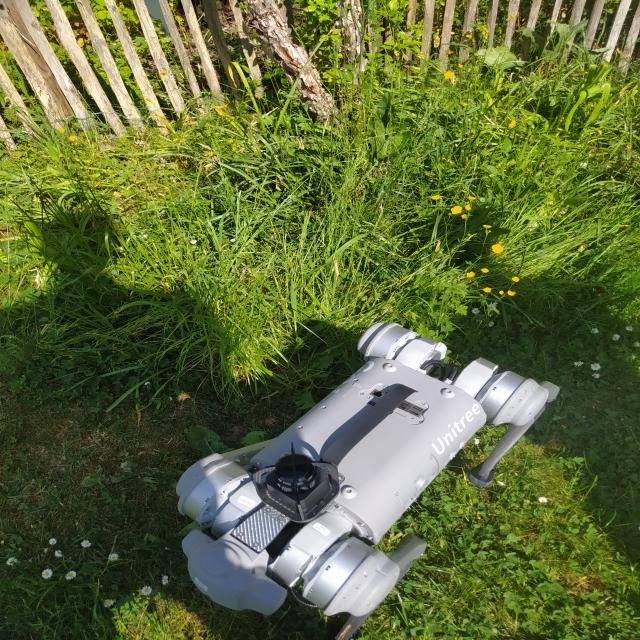unitree-go1-robot: (159, 302, 576, 640)
